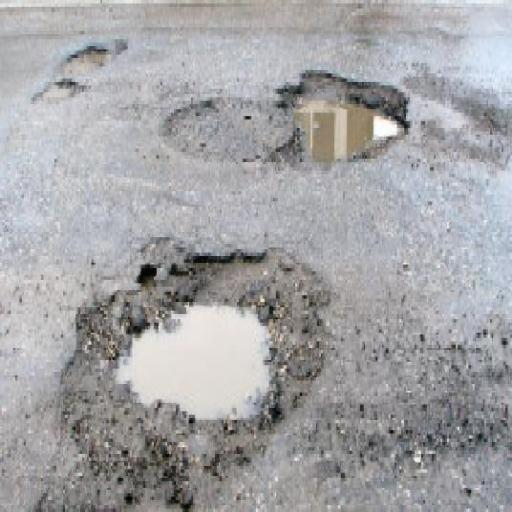pothole: (58, 238, 332, 510), (264, 65, 414, 167), (64, 34, 128, 76), (31, 77, 87, 106)
